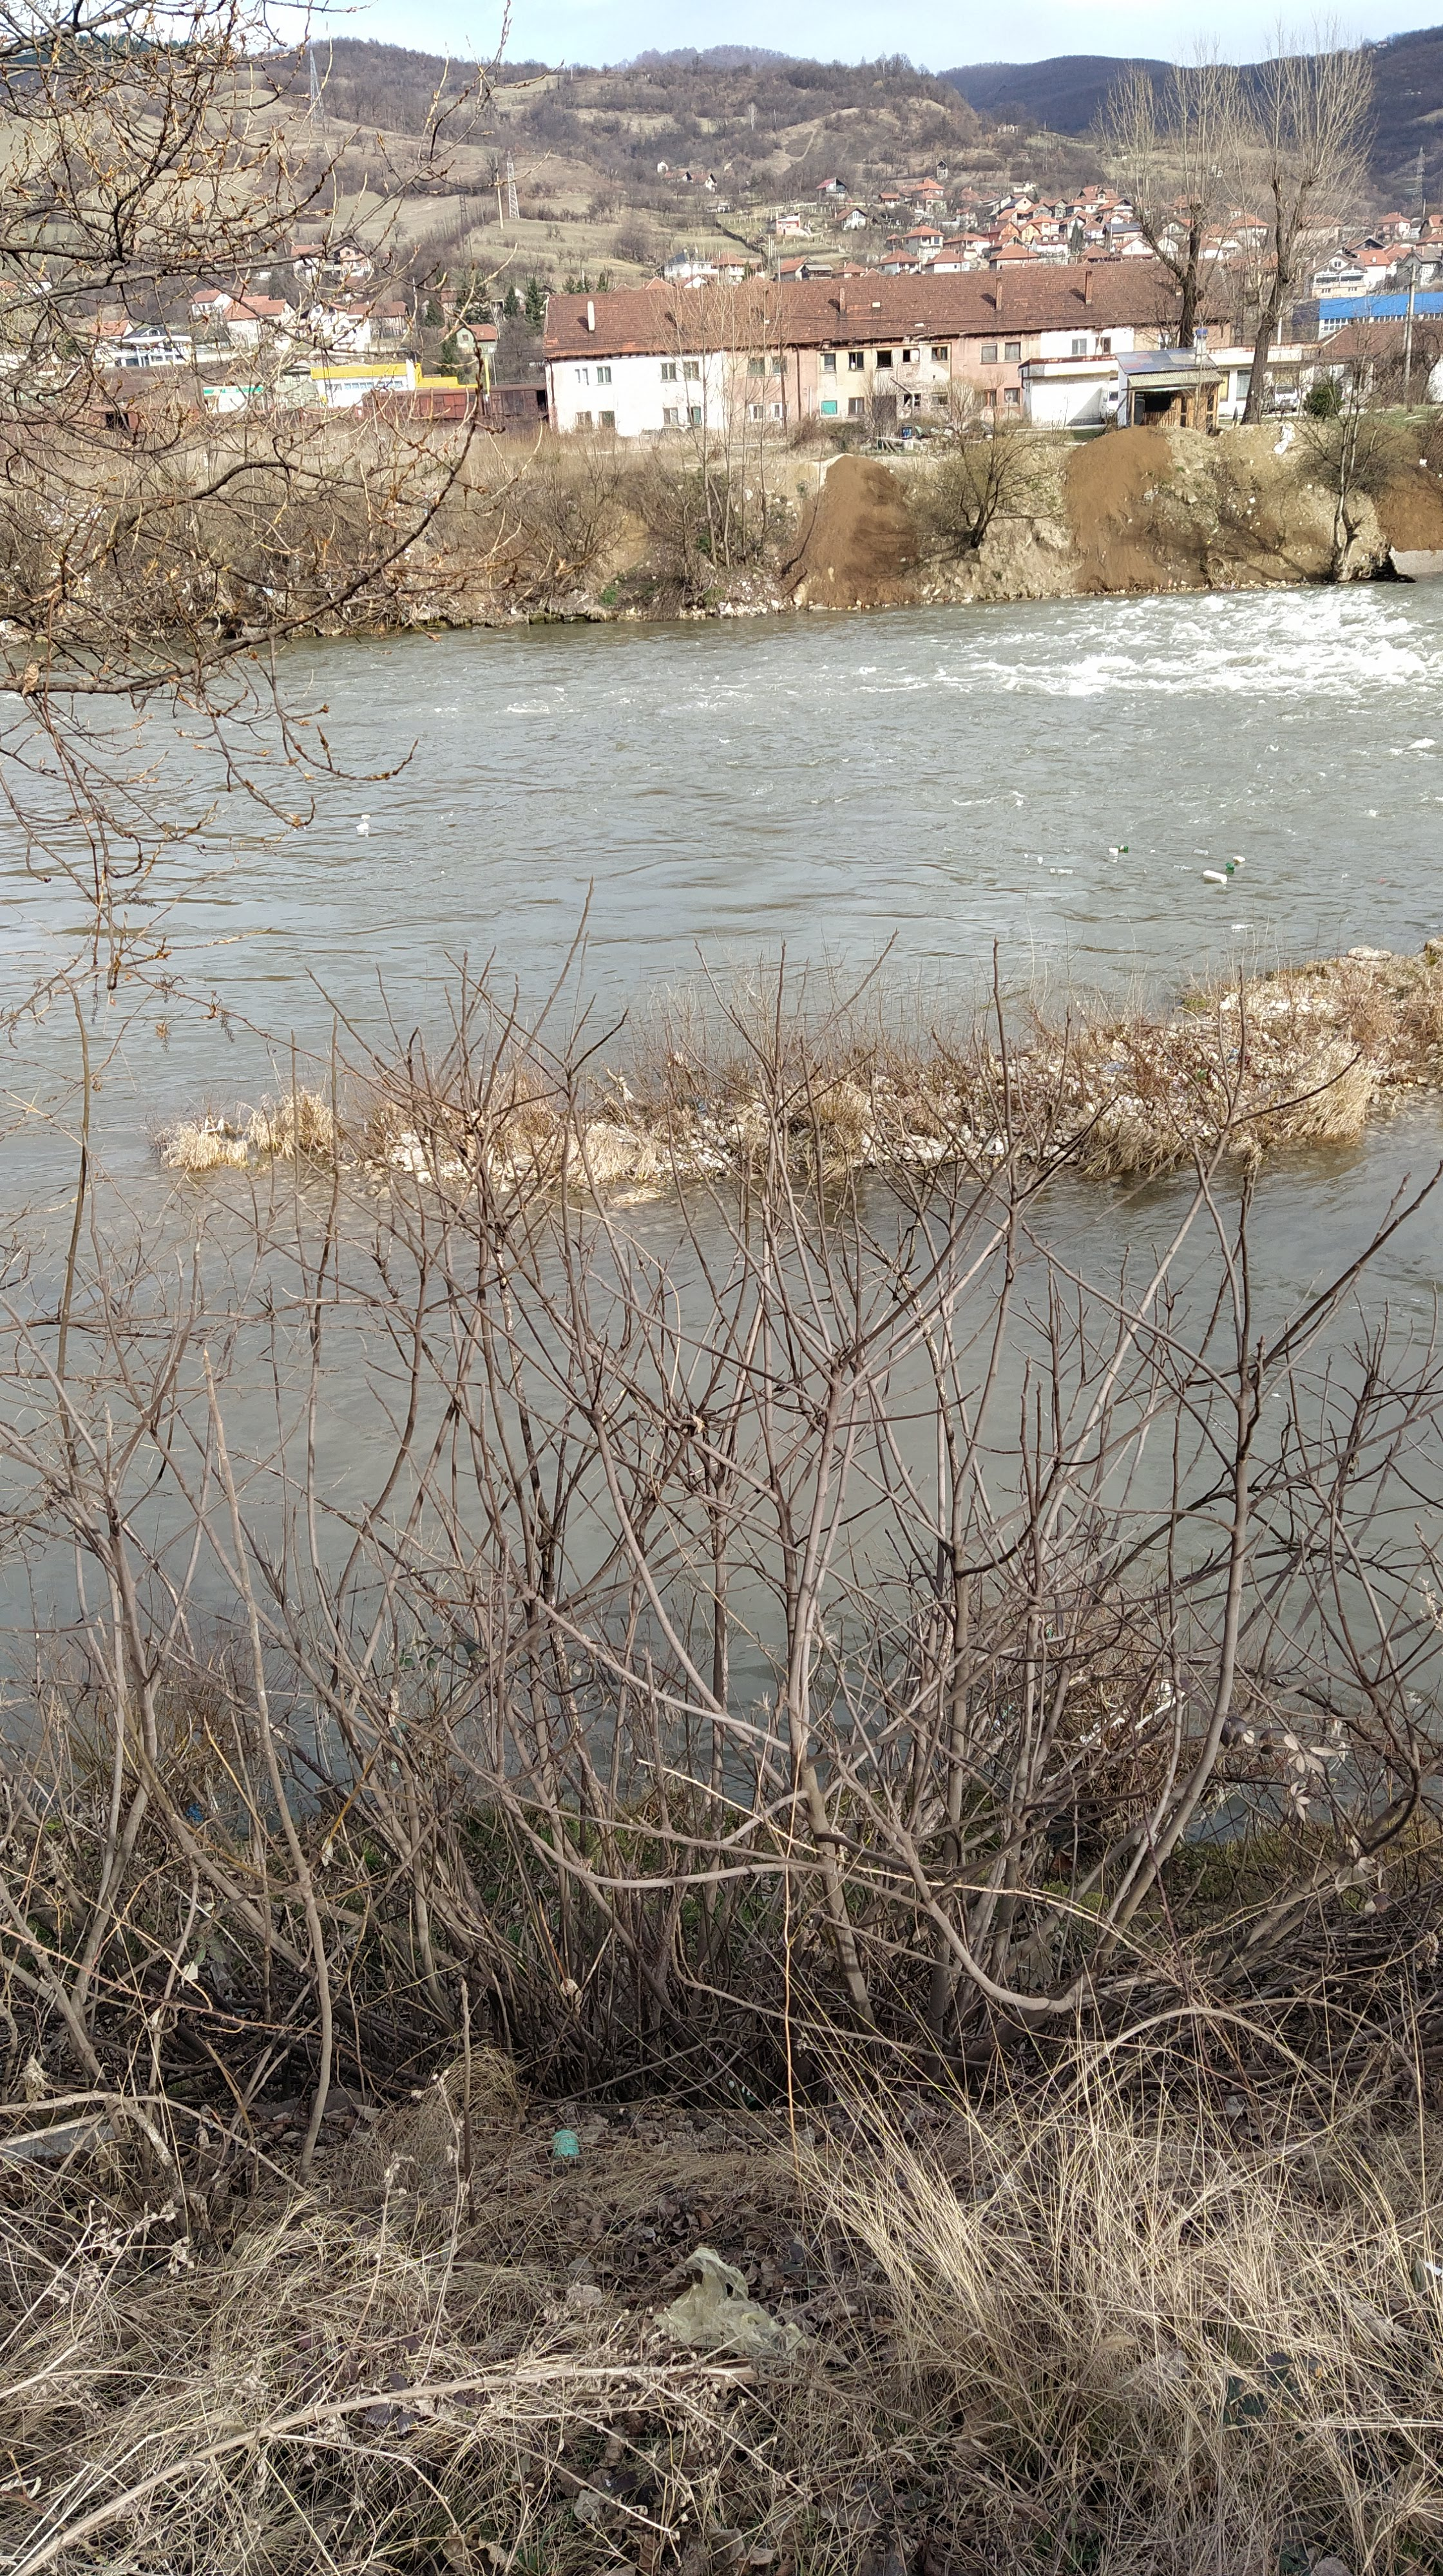Plastic Bottle: (1231, 924, 1254, 929), (1193, 847, 1208, 855), (1114, 844, 1128, 851), (1057, 869, 1075, 874), (1225, 862, 1232, 869), (1038, 856, 1043, 863), (1342, 872, 1347, 878)
